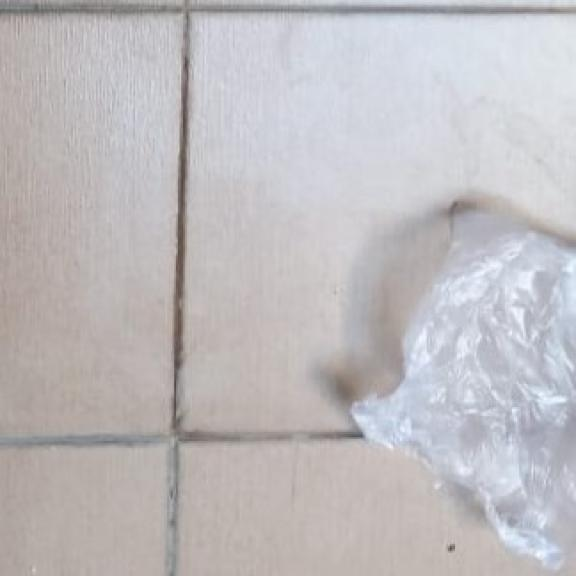Plastik: (349, 202, 576, 573)
